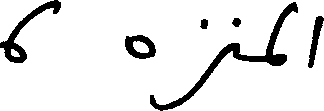6: (0, 0, 61, 64)
ا: (306, 14, 322, 68)
ز: (176, 16, 232, 107)
ل: (264, 0, 297, 49)
م: (260, 49, 287, 67)
ن: (230, 16, 239, 60)
ه: (123, 32, 156, 72)
